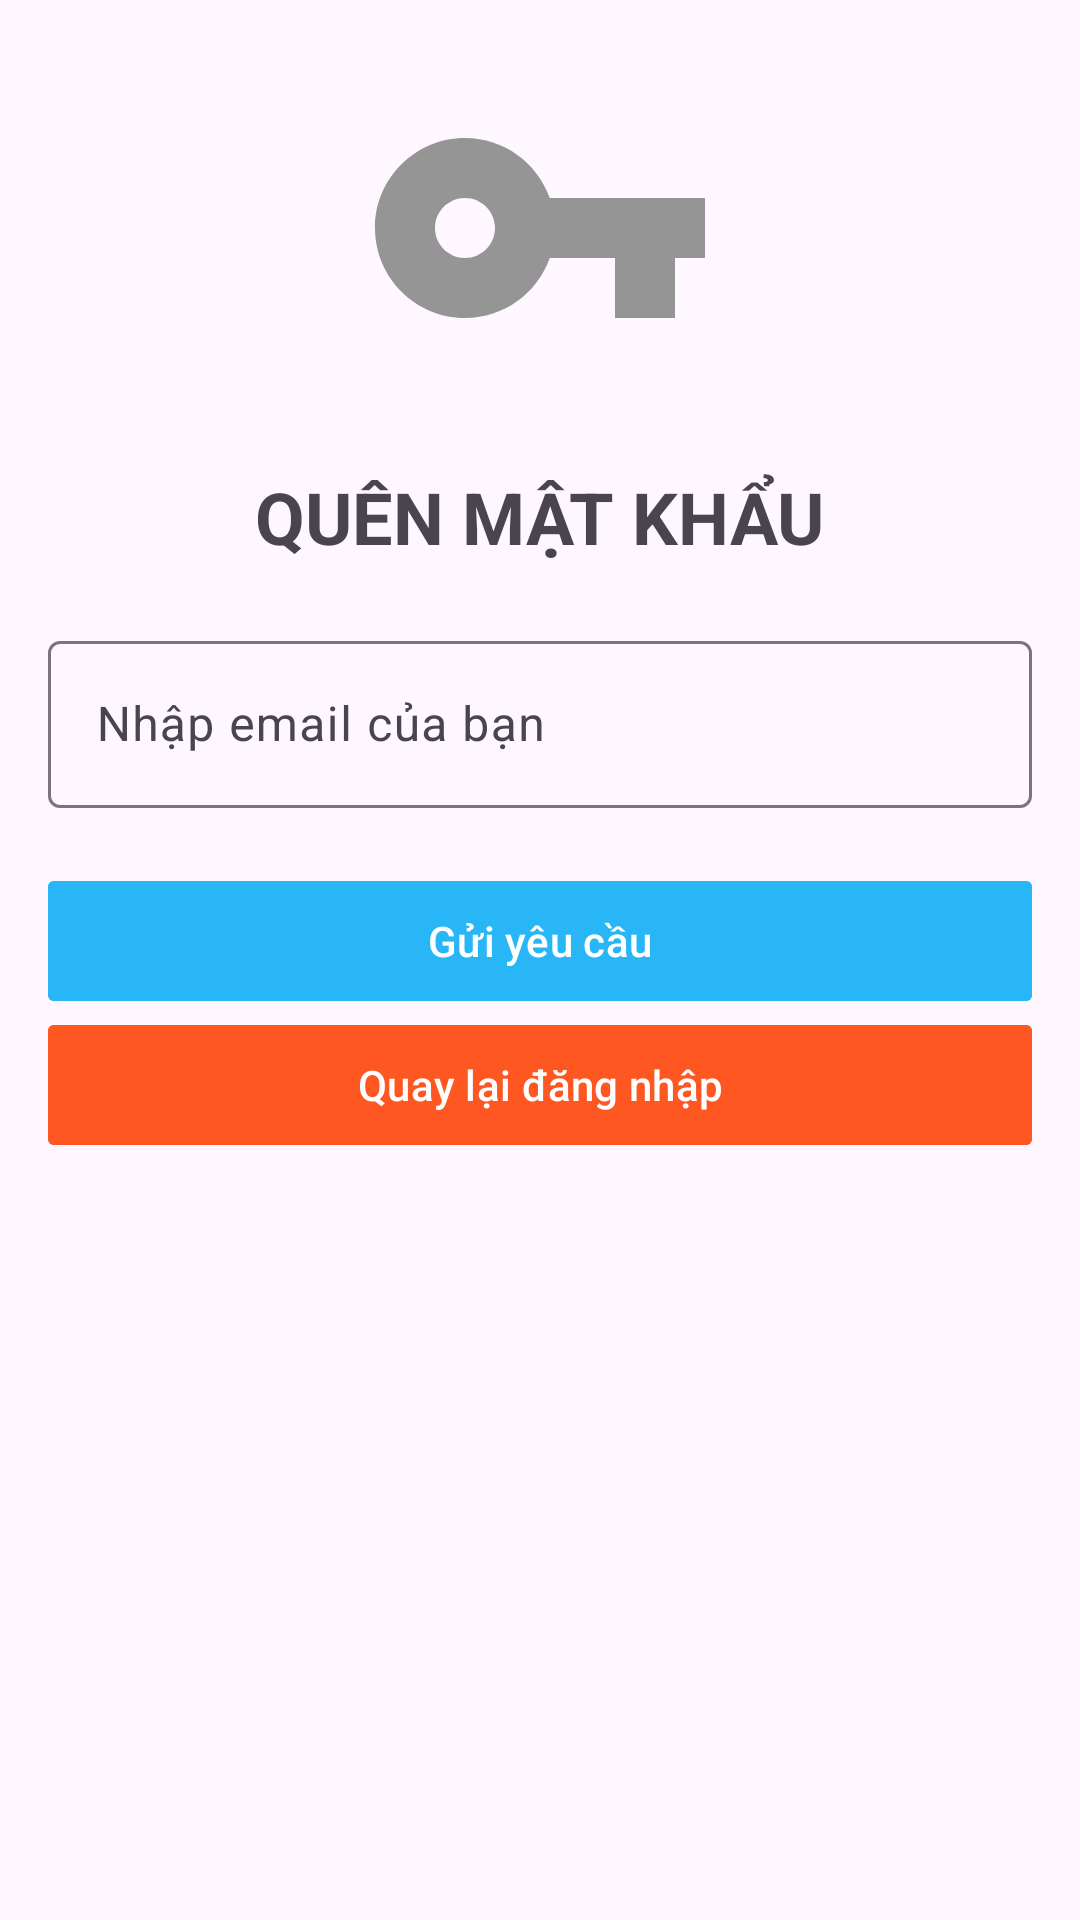

Icons on this 1080x1920 Android screen, each with the point to tap as (x=x, y=y):
vpn key: (x=540, y=228)
